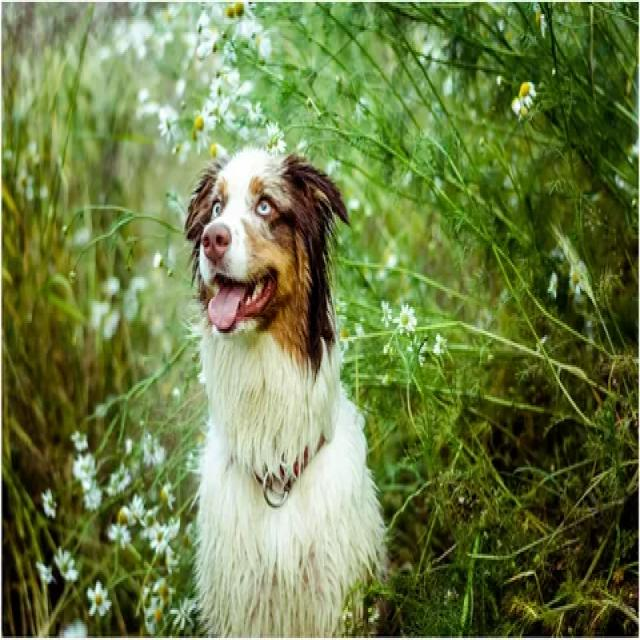Dog: (180, 142, 366, 629)
